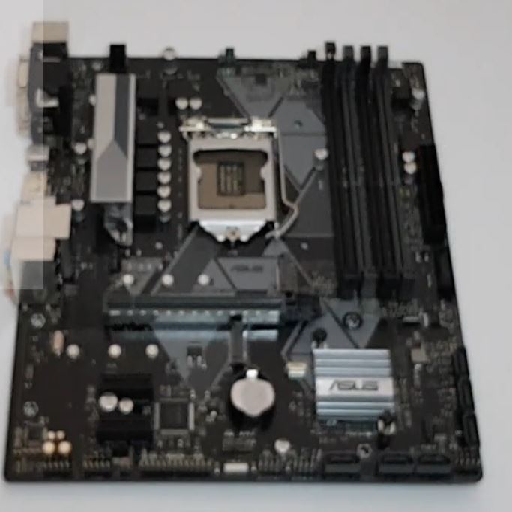CPU: (186, 116, 276, 244)
GPU: (104, 294, 317, 322)
MOTHERBOARD: (4, 53, 484, 485)
RAM: (322, 44, 414, 300)
SSD: (276, 257, 299, 294), (228, 327, 248, 368)
